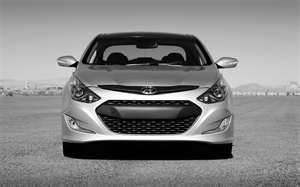car: (57, 27, 239, 160)
